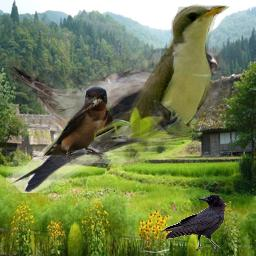Crow: (159, 194, 227, 252)
Cuckoo: (94, 1, 230, 162)
Swallow: (6, 48, 230, 193), (43, 86, 113, 166)
